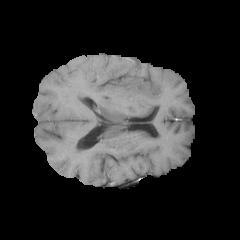glioma: (63, 66, 157, 103)
